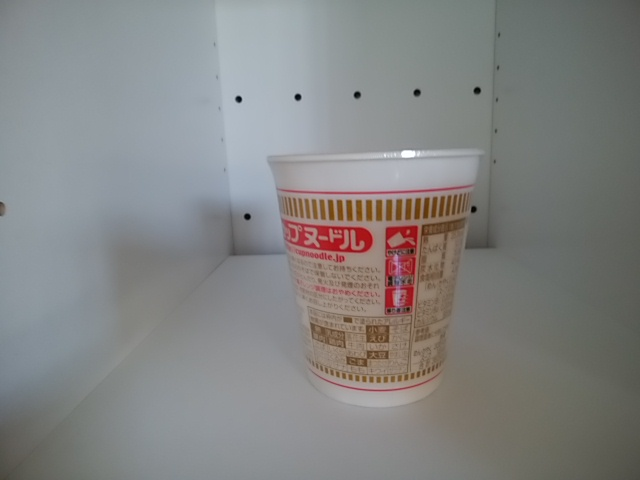cup-ramen: (263, 139, 501, 424)
